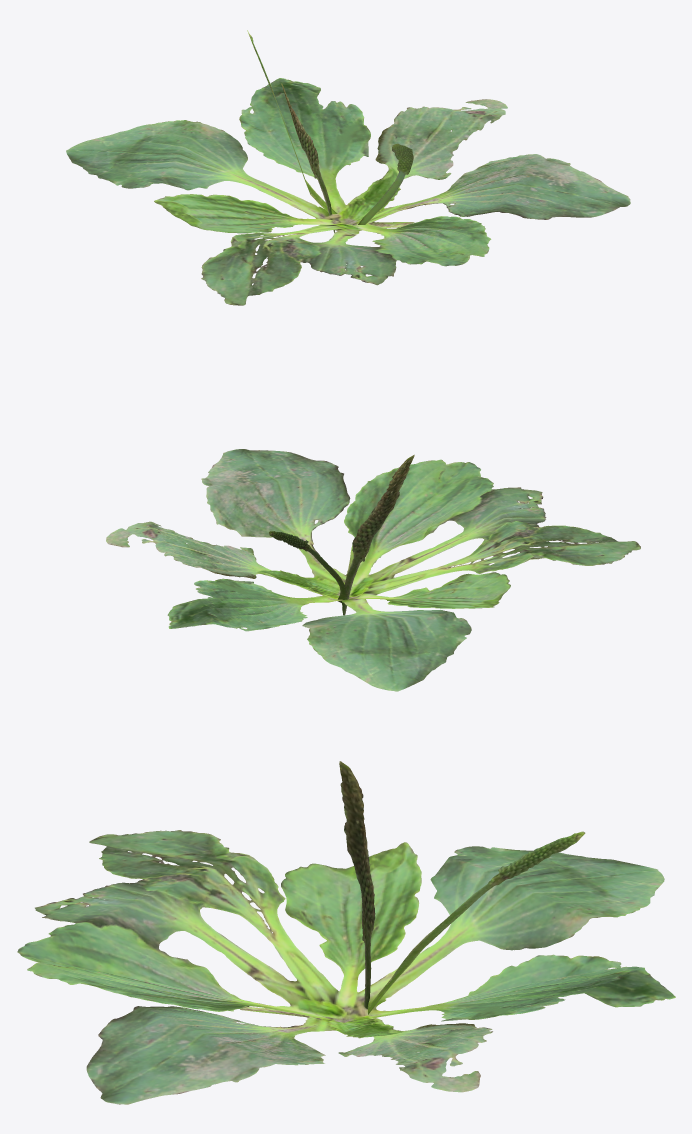
File: weed.fbx
The picture shows the model from 3 angles, top to bottom: view 1: azimuth 30°, elevation 25°; view 2: azimuth 150°, elevation 25°; view 3: azimuth 270°, elevation 25°; orthographic projection. The views are drawn at different scales.
Parts seen in each view (by area): view 1: weed; view 2: weed; view 3: weed.
Part boxes in pixels (bbox=[...]): weed: bbox=[66, 30, 630, 305]; weed: bbox=[106, 449, 640, 691]; weed: bbox=[17, 761, 675, 1104].
Bounding box in the file's own units: 0.5888 × 0.2575 × 0.5891.
